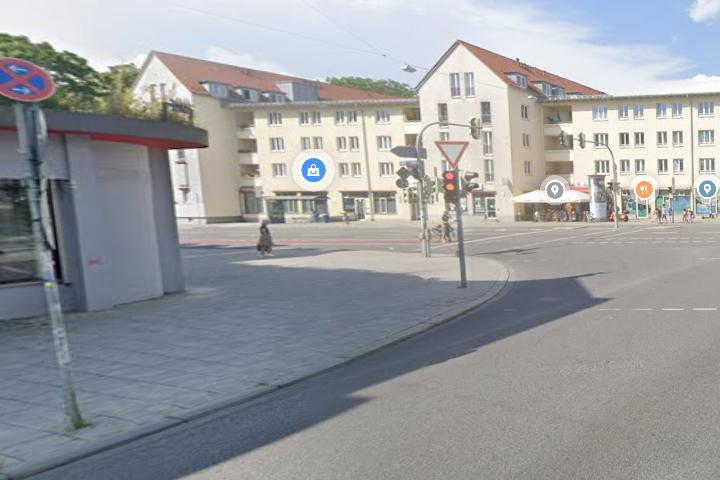google_maps: (300, 156, 326, 183), (635, 179, 654, 198), (547, 181, 565, 199), (698, 180, 716, 197)
traffic_sign: (1, 56, 54, 101), (434, 141, 469, 168)
